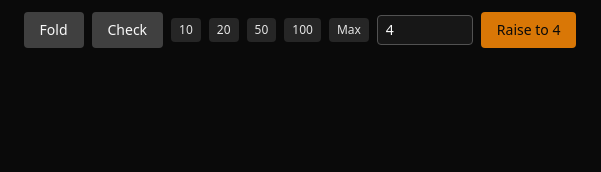
ActionControls › quick-bet buttons › Max sets the raise input to the legal maximum (all-in)
The width and height of the screenshot is (601, 172).
Click the button titled "Max — all in" at point(349, 30), box [329, 18, 369, 42]
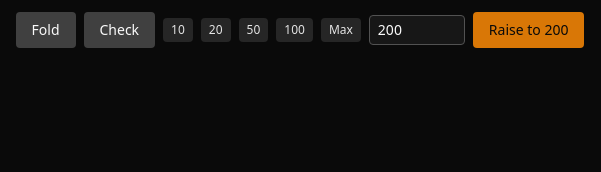
Now the number field named "Raise amount" holds "200", box [369, 15, 465, 45]
